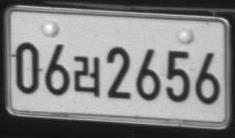0: (15, 41, 39, 94)
2: (106, 46, 131, 100)
5: (166, 49, 190, 102)
6: (194, 52, 221, 104), (135, 48, 161, 101), (44, 44, 70, 96)
러: (73, 55, 100, 98)
